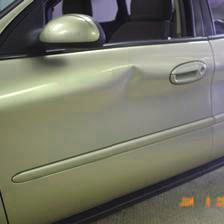door_dent: (82, 56, 160, 124)
